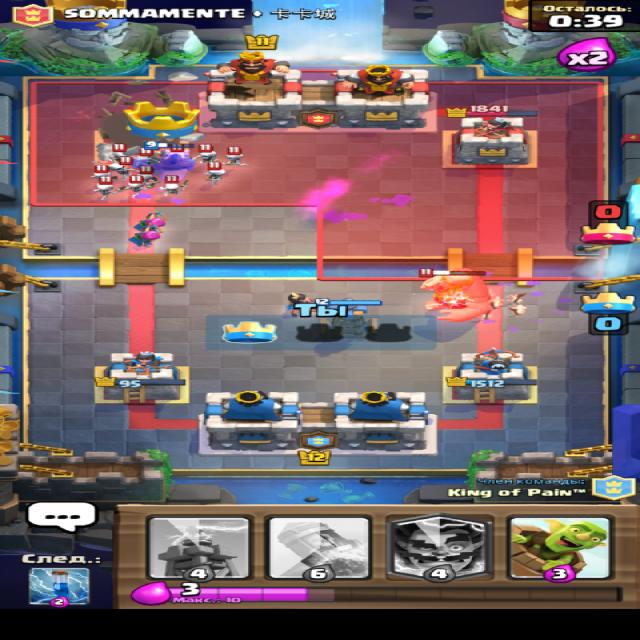Enemy-Giant: (414, 267, 494, 322)
Enemy-Skeleton: (158, 174, 190, 198), (90, 175, 118, 201), (200, 161, 229, 185), (120, 175, 149, 198), (219, 144, 248, 167), (190, 143, 218, 162), (133, 165, 159, 185), (88, 164, 119, 178), (105, 143, 124, 161)
Player-Archer: (125, 222, 163, 248), (129, 209, 168, 231)
Player-HogRider: (142, 140, 198, 184)
Player-Princess: (284, 291, 315, 317)
Player-Tesla: (312, 296, 381, 341)
